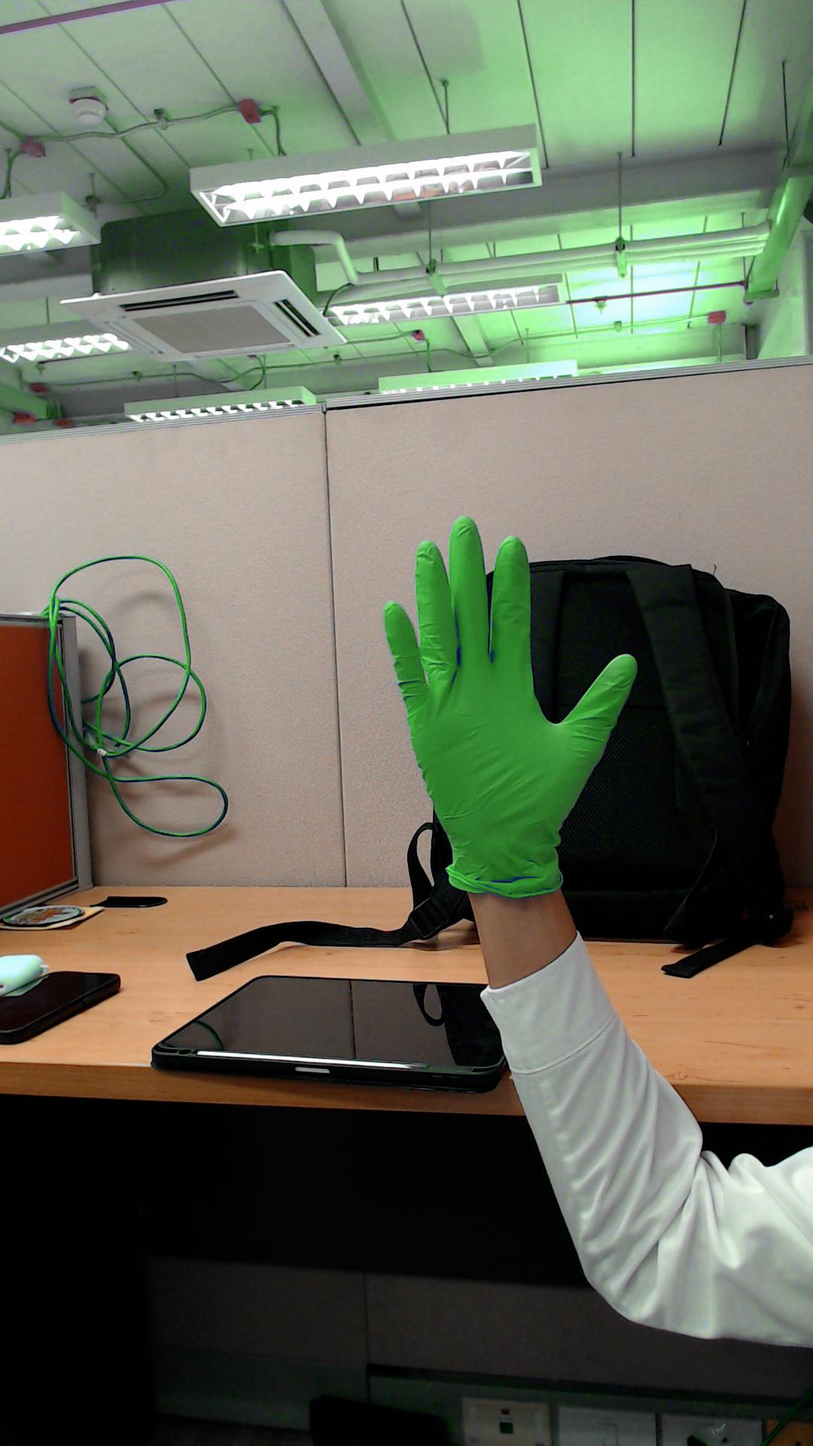gloves: (378, 508, 648, 828)
